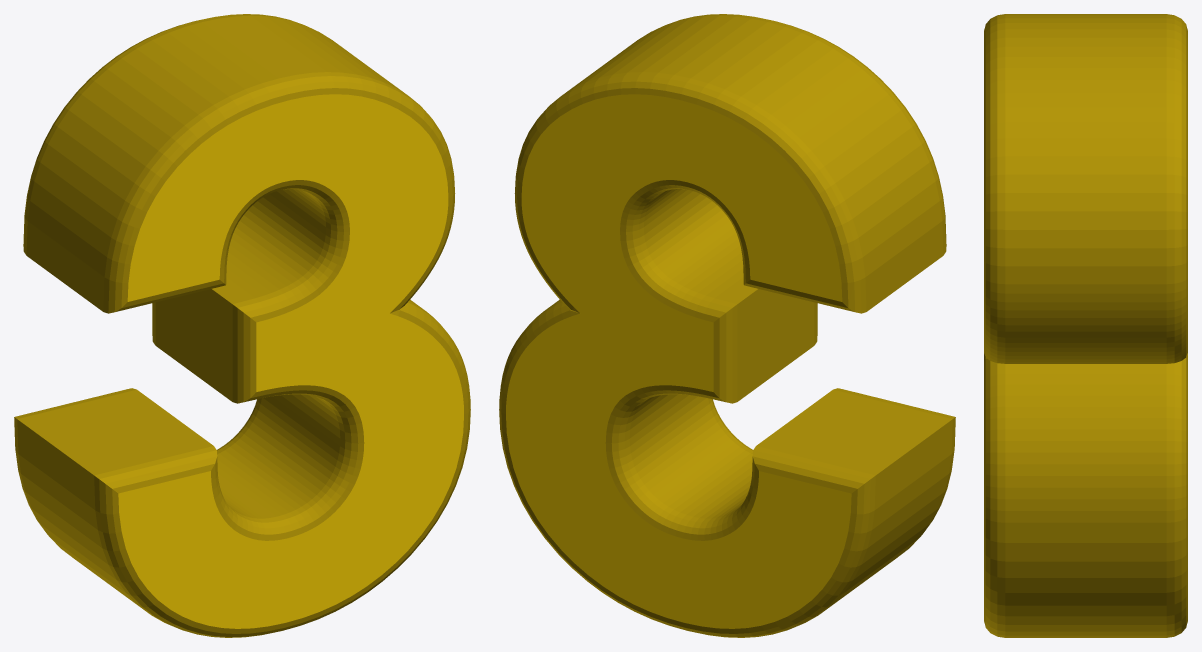
The picture shows the model from 3 angles, left to right: view 1: azimuth 30°, elevation 25°; view 2: azimuth 150°, elevation 25°; view 3: azimuth 270°, elevation 25°; orthographic projection. The views are drawn at different scales.
Bounding box in the file's own units: 0.9533 × 1.34 × 0.43.
